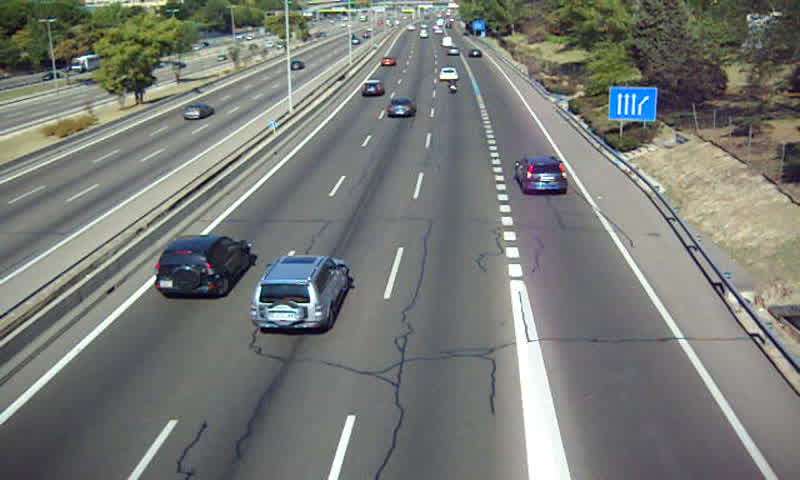car: (252, 257, 351, 332), (155, 235, 251, 299), (517, 157, 570, 195), (385, 98, 417, 120), (361, 80, 386, 98), (438, 66, 459, 80), (380, 56, 398, 67)
motorcycle: (448, 79, 459, 95)
